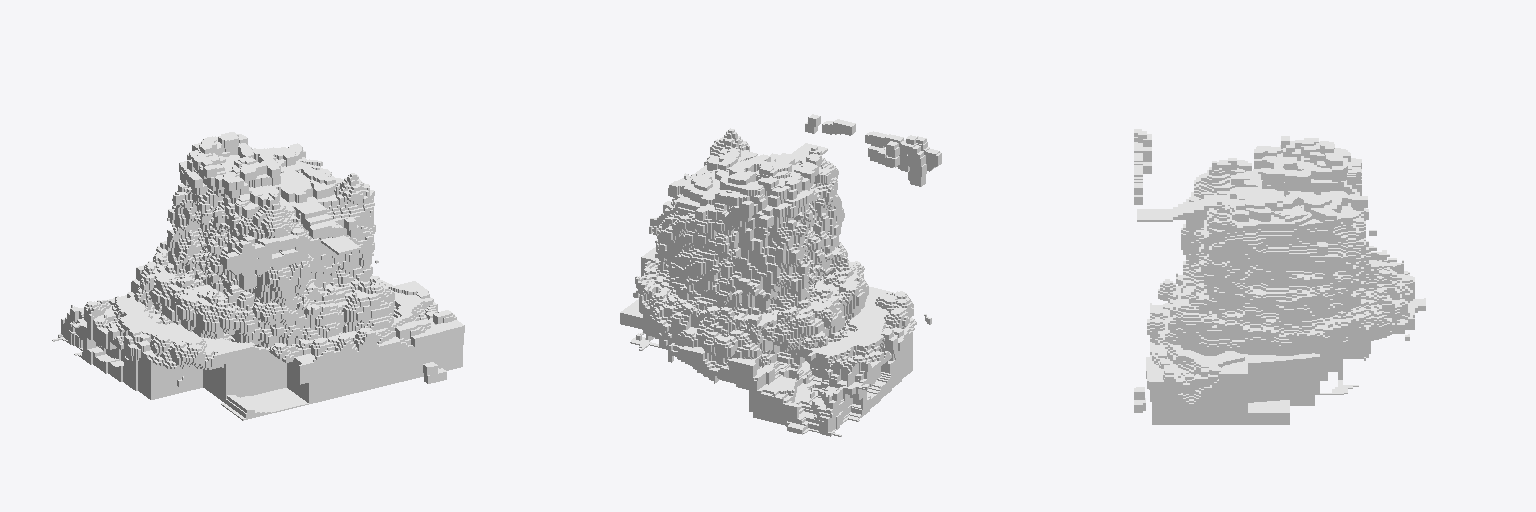
Rendered from Lava_stuff-27.obj.
The picture shows the model from 3 angles: view 1: azimuth 30°, elevation 25°; view 2: azimuth 150°, elevation 25°; view 3: azimuth 270°, elevation 25°; orthographic projection.
Visible parts, largest first — view 1: object 1; view 2: object 1; view 3: object 1.
Boxes of the visible parts, x1,y1,x2,y2 form: object 1: [52, 132, 464, 420]; object 1: [620, 114, 941, 436]; object 1: [1134, 129, 1425, 424].
Size of the model in its own units: 25.6 by 17 by 22.6.